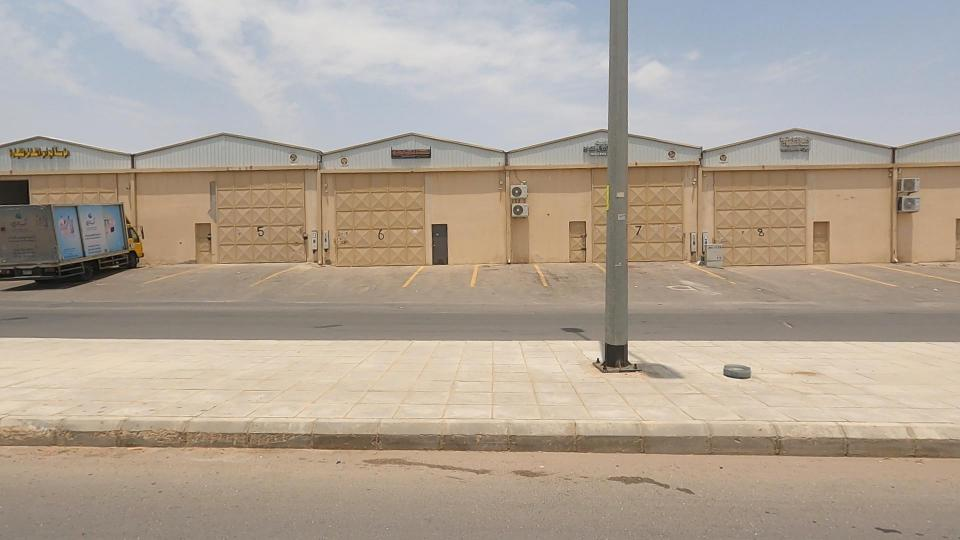GARBAGE: (692, 347, 783, 397)
